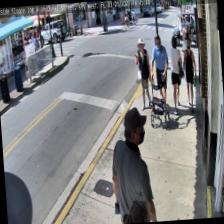person: (106, 106, 156, 224), (148, 34, 172, 118), (168, 35, 186, 114), (180, 39, 199, 110), (134, 38, 152, 110)
